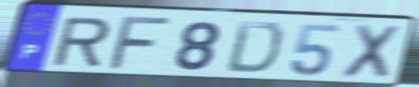5: (288, 21, 342, 78)
8: (174, 20, 222, 72)
D: (223, 19, 286, 76)
F: (104, 16, 176, 72)
R: (49, 15, 113, 67)
X: (336, 22, 406, 82)
